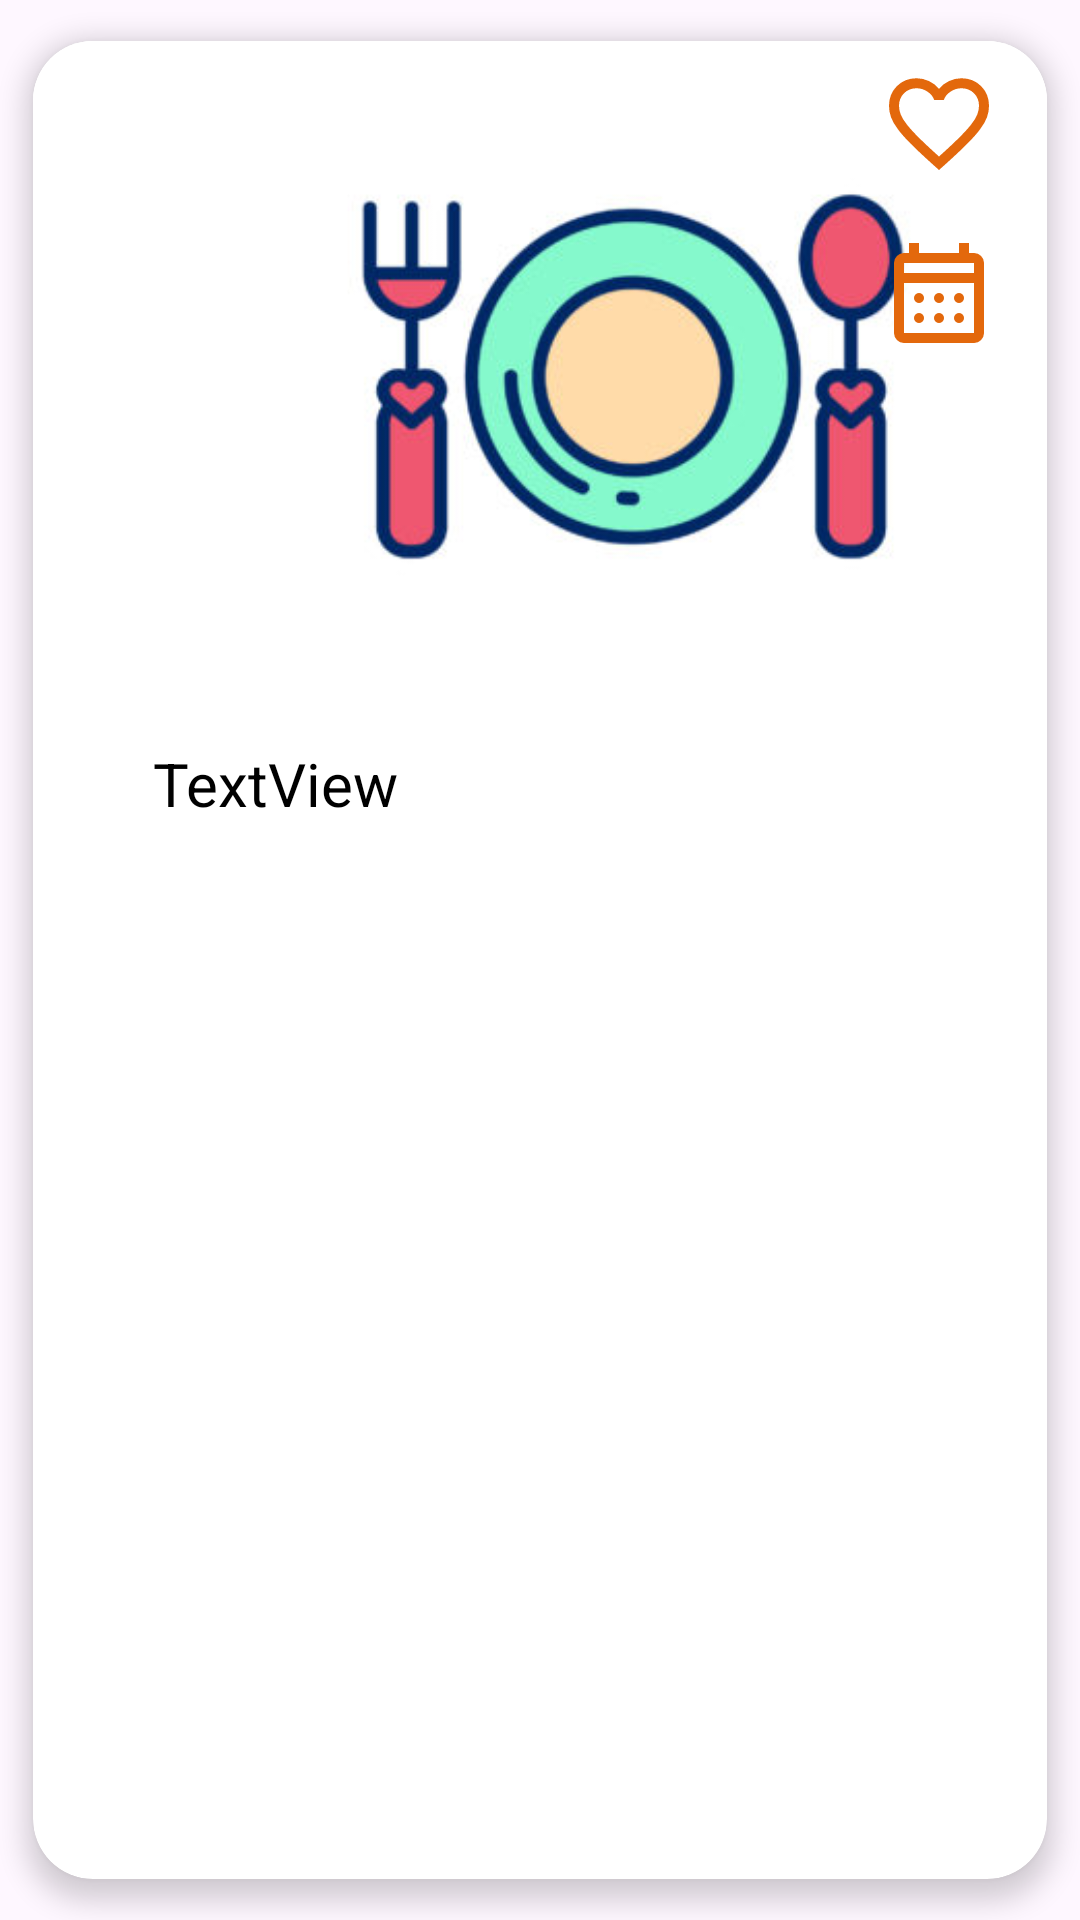

Locate icon controls on the screen. Image size 1080×1920, boxes as {"left": x1, "top": y1, "right": x2, "bottom": y2}.
calendar: {"left": 879, "top": 233, "right": 984, "bottom": 343}
favorite: {"left": 889, "top": 78, "right": 989, "bottom": 170}
